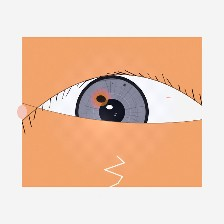foreign_body_visible: (77, 80, 125, 118)
